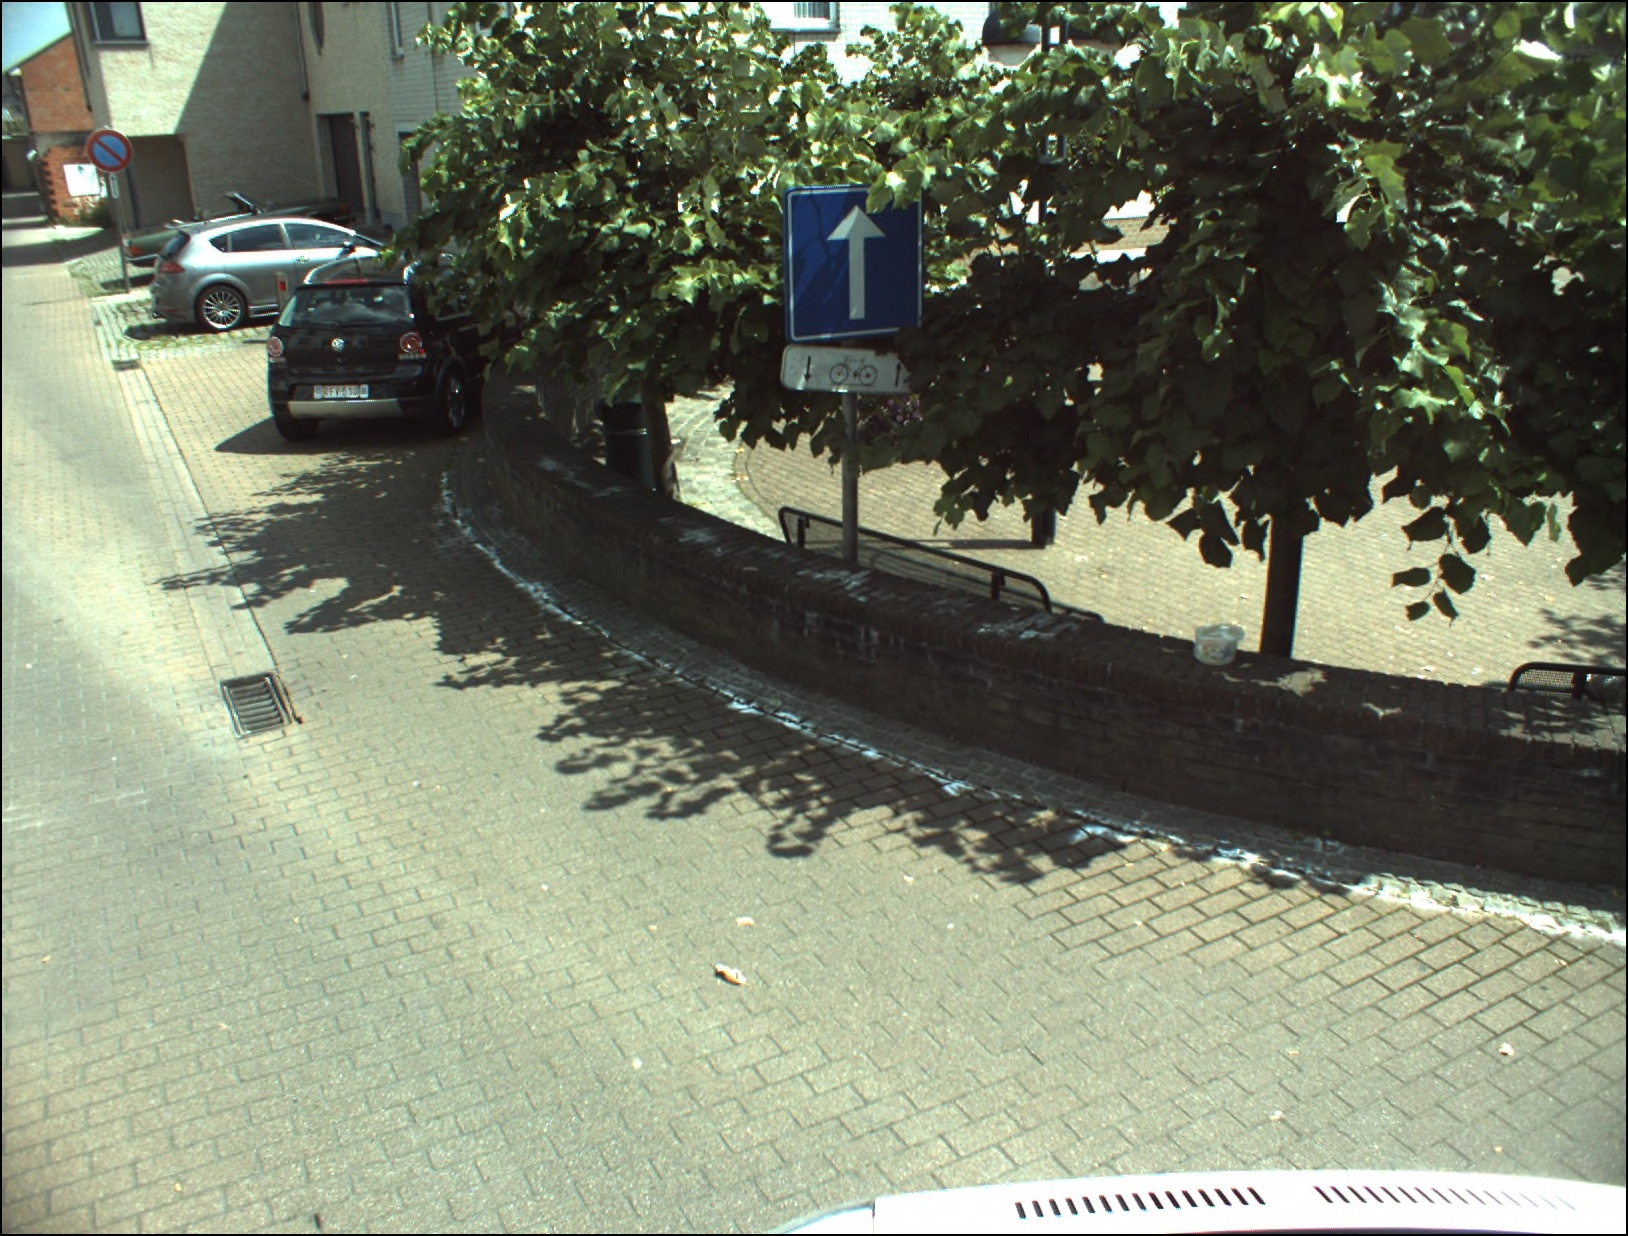oneway: (789, 193, 918, 335)
